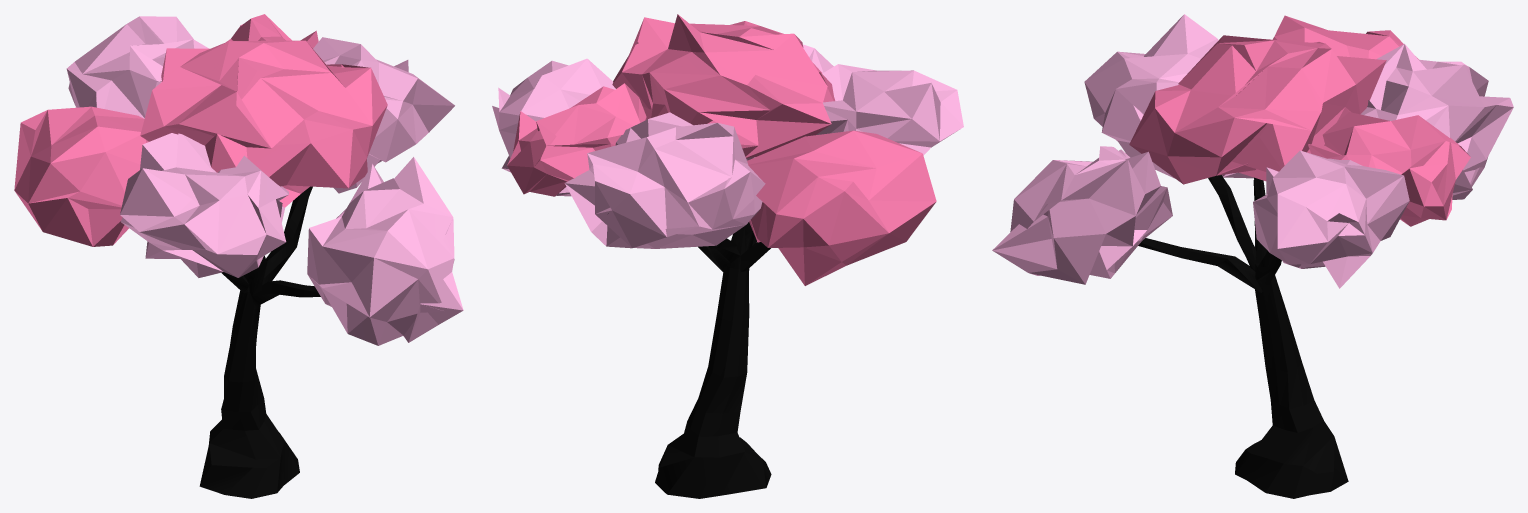
File: Sakura03.fbx
The picture shows the model from 3 angles, left to right: view 1: azimuth 30°, elevation 25°; view 2: azimuth 150°, elevation 25°; view 3: azimuth 270°, elevation 25°; orthographic projection. The views are drawn at different scales.
Visible parts, largest first — view 1: Crown, Trunk; view 2: Crown, Trunk; view 3: Crown, Trunk.
Boxes of the visible parts, x1,y1,x2,y2 form: Crown: [14, 14, 463, 345]; Trunk: [199, 186, 320, 498]; Crown: [492, 14, 963, 285]; Trunk: [608, 213, 771, 498]; Crown: [992, 14, 1513, 288]; Trunk: [1138, 175, 1348, 498].
Size of the model in its own units: 277 by 271 by 299.
